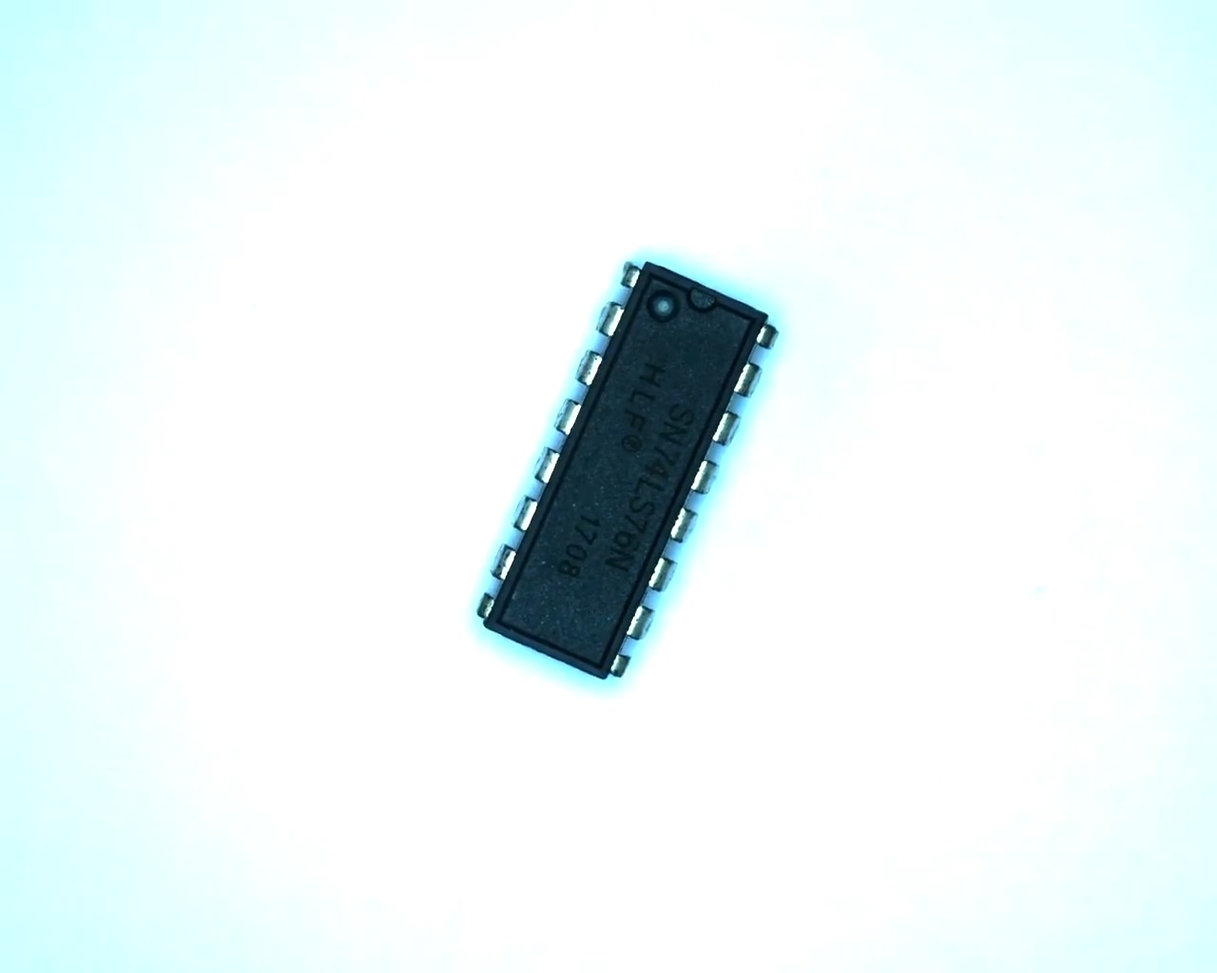IC: (462, 249, 788, 697)
notch: (682, 278, 723, 320)
